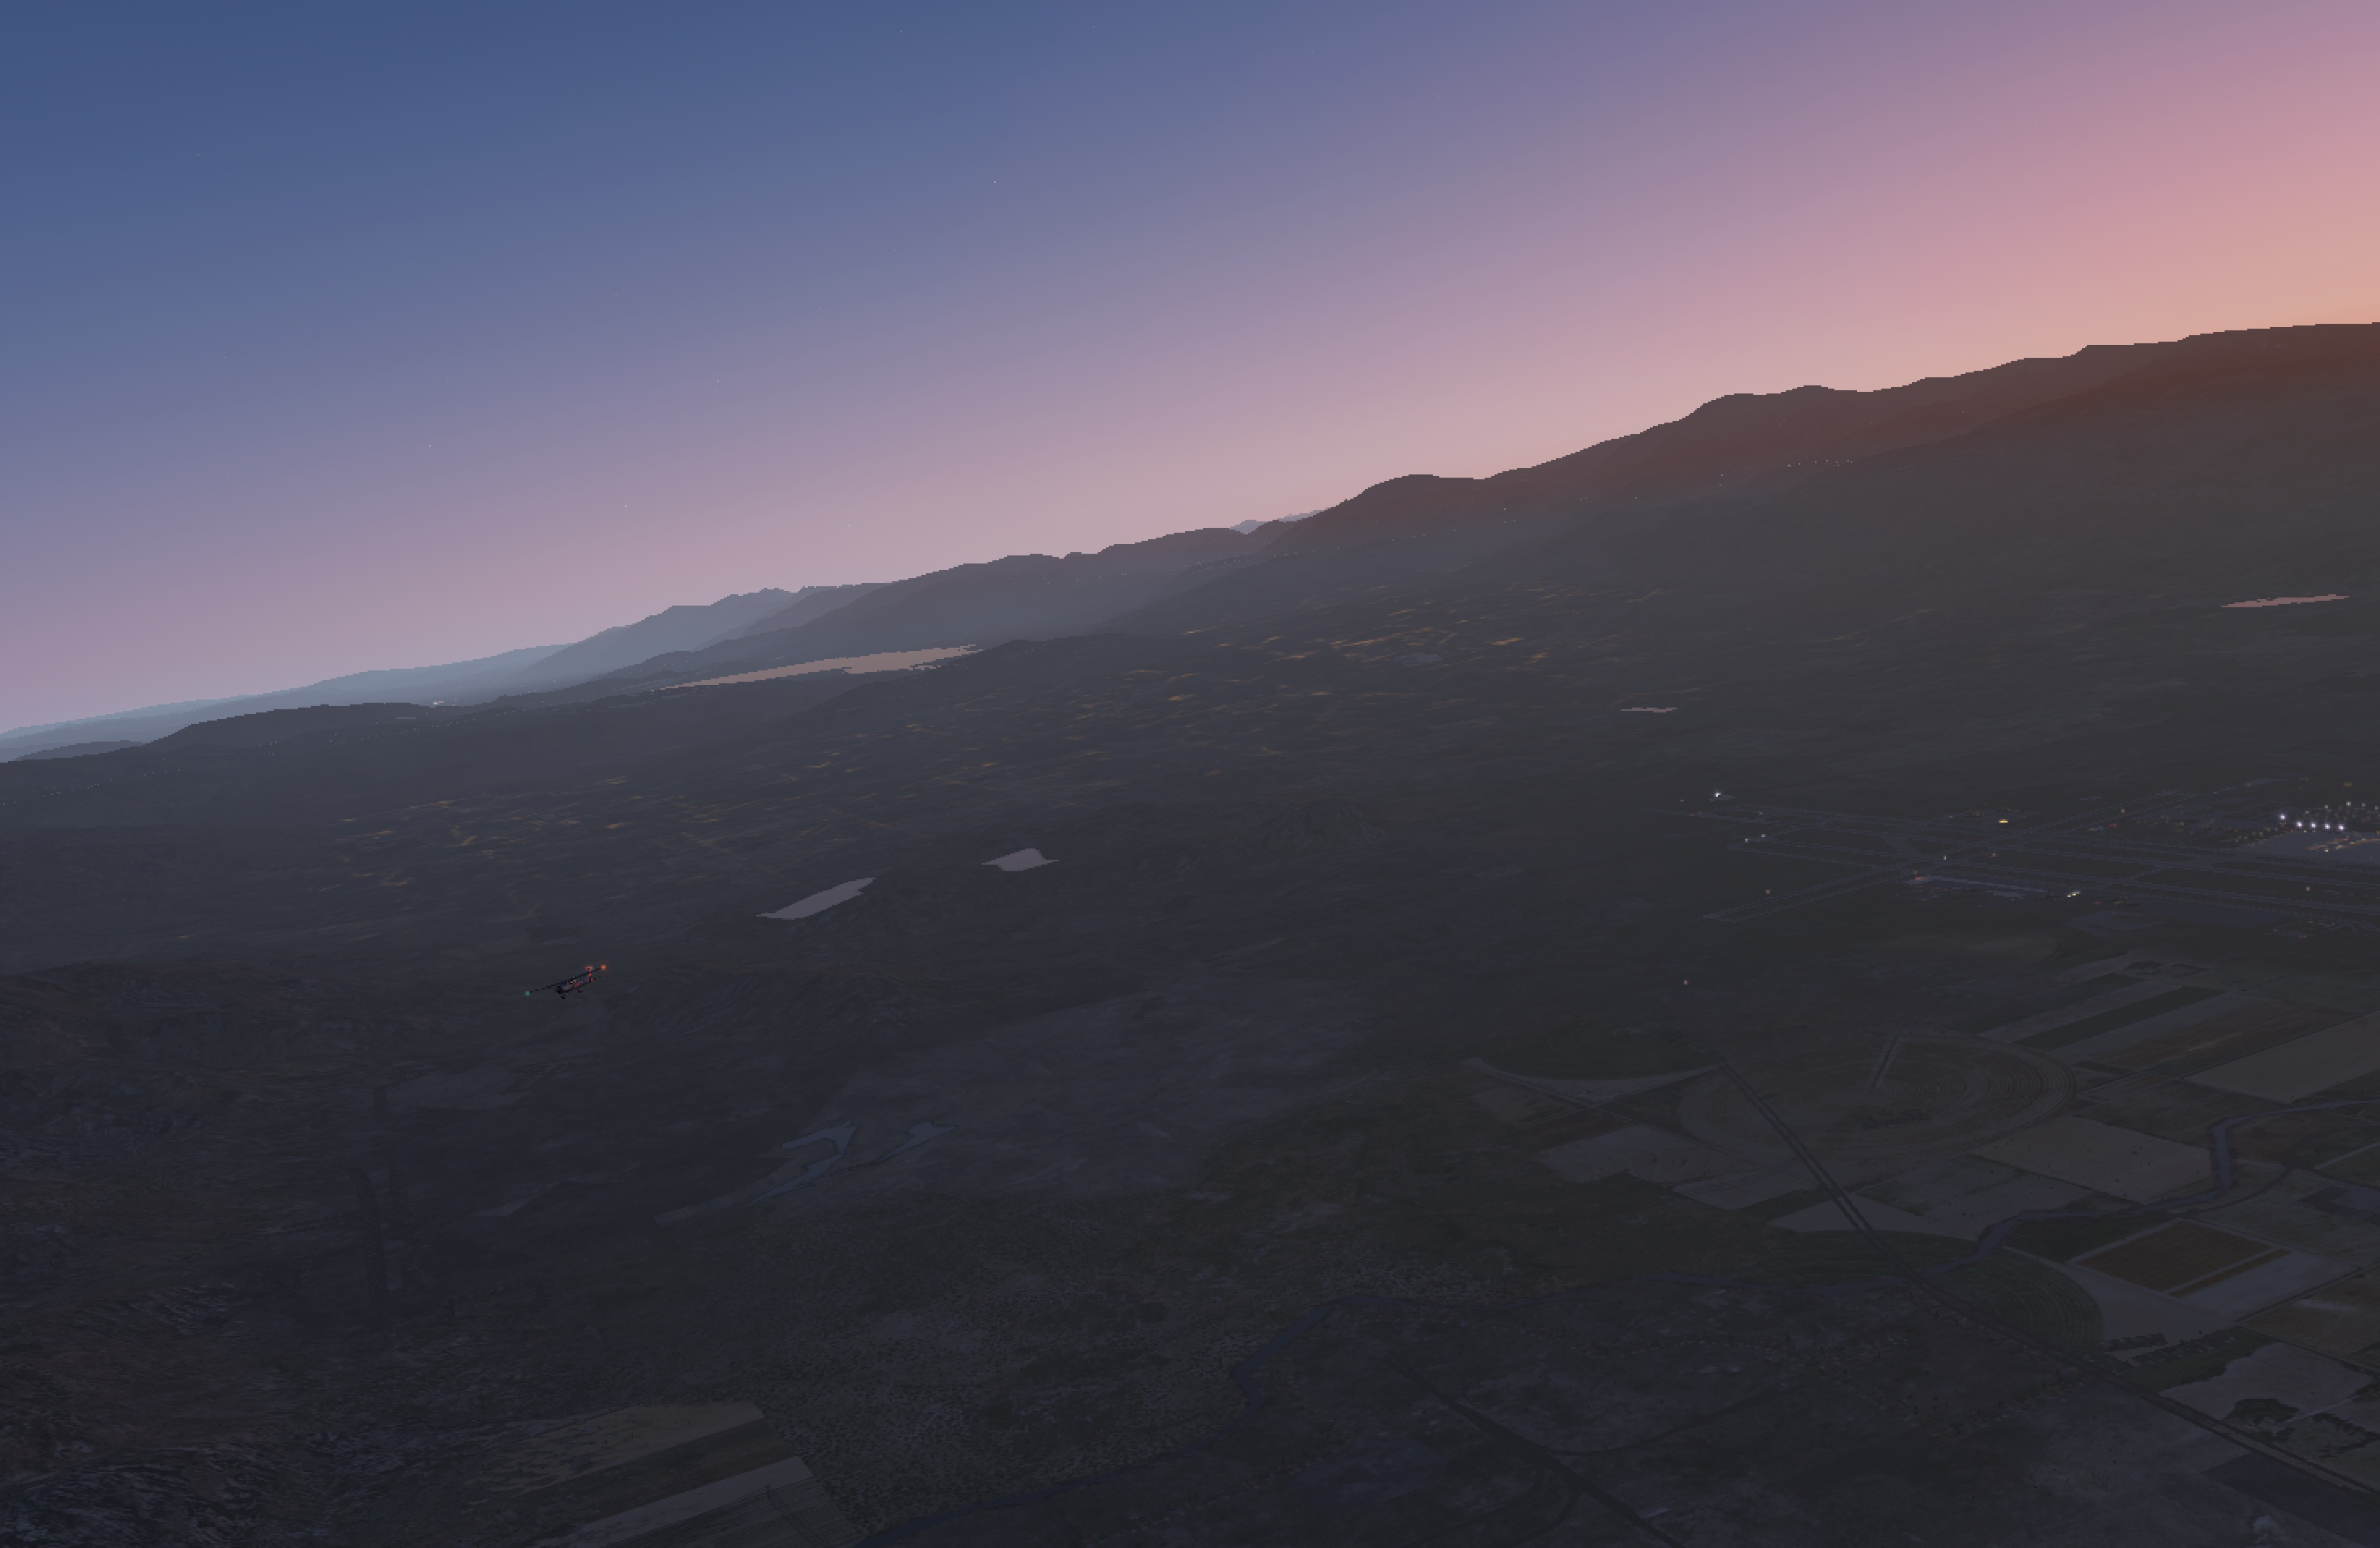aircraft: (536, 974, 598, 998)
